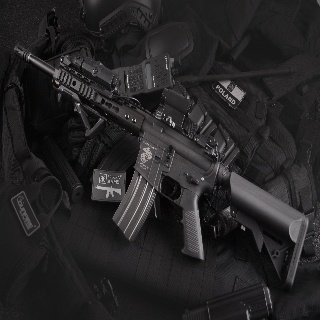rifle: (12, 42, 312, 296)
